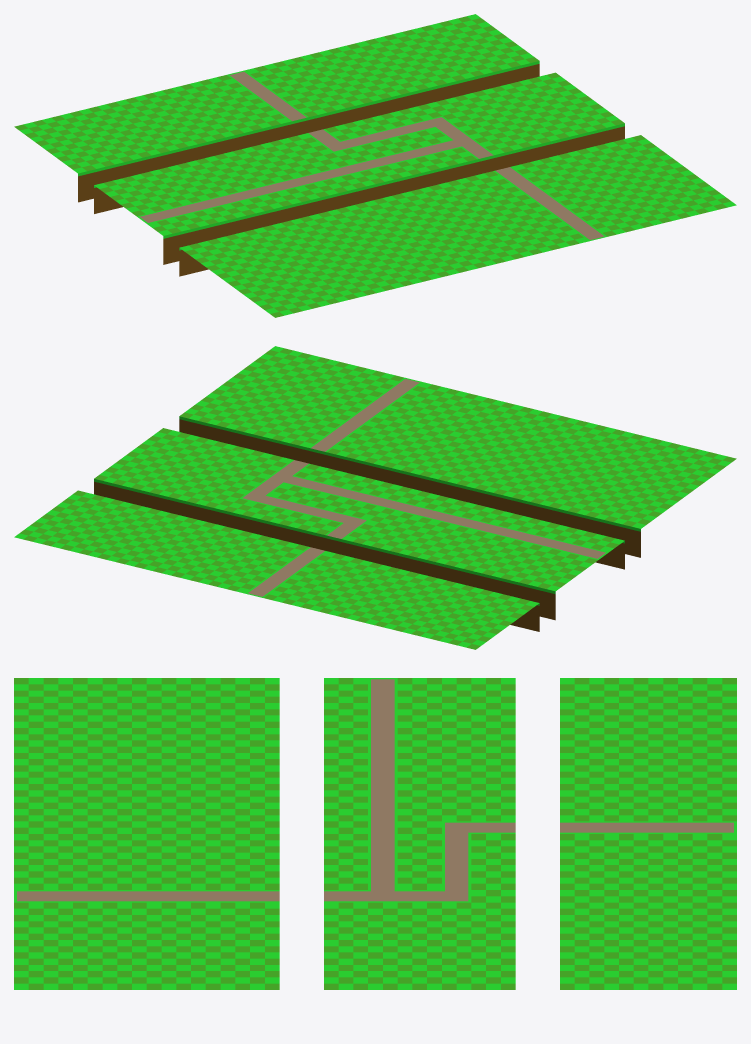
The model's file is Map 05 - 3.fbx.
3 views of the same model, one above another, from view 1: azimuth 30°, elevation 25°; view 2: azimuth 150°, elevation 25°; view 3: azimuth 270°, elevation 25° (orthographic). The views are drawn at different scales.
Parts seen in each view (by area): view 1: Plane.017, Plane.026; view 2: Plane.017, Plane.026; view 3: Plane.017, Plane.026.
Boxes of the visible parts, x1,y1,x2,y2 form: Plane.017: (14,14,736,317); Plane.026: (140,71,604,239); Plane.017: (14,346,736,649); Plane.026: (242,379,605,596); Plane.017: (14,678,736,989); Plane.026: (17,679,733,901).
Size of the model in its own units: 500 by 30 by 490.
